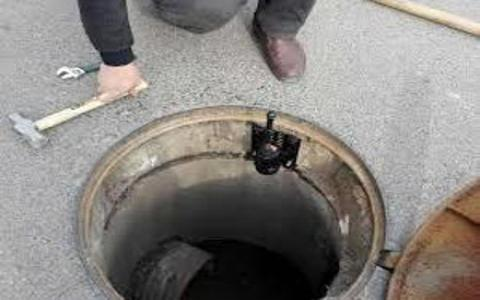open manhole: (67, 106, 387, 298)
